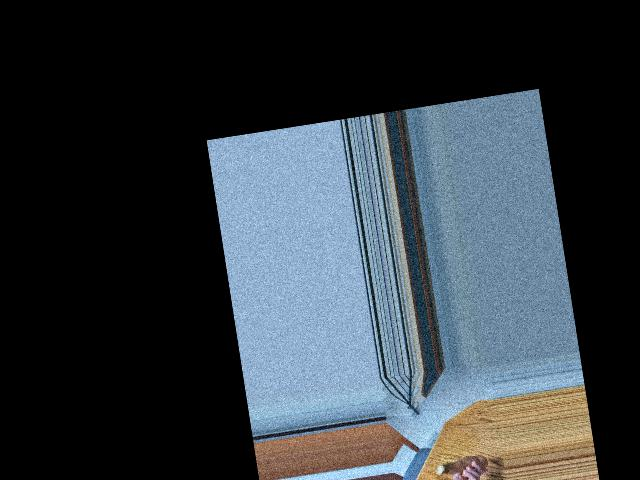sweet_potato: (434, 453, 487, 480)
